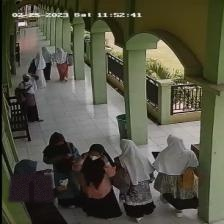Cadar_Niqab: (8, 159, 54, 201)
